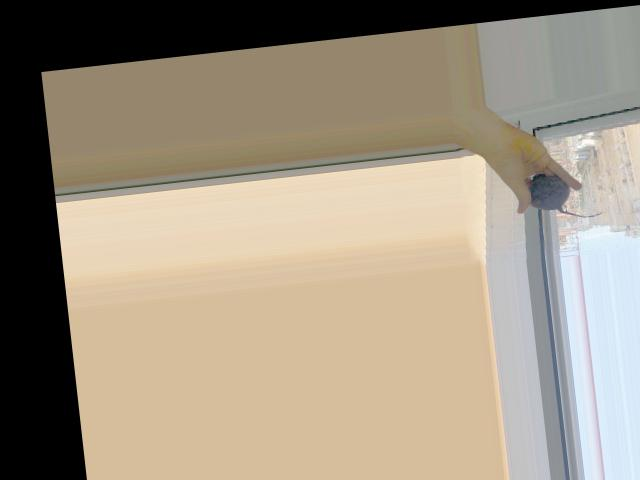beet: (528, 167, 605, 223)
